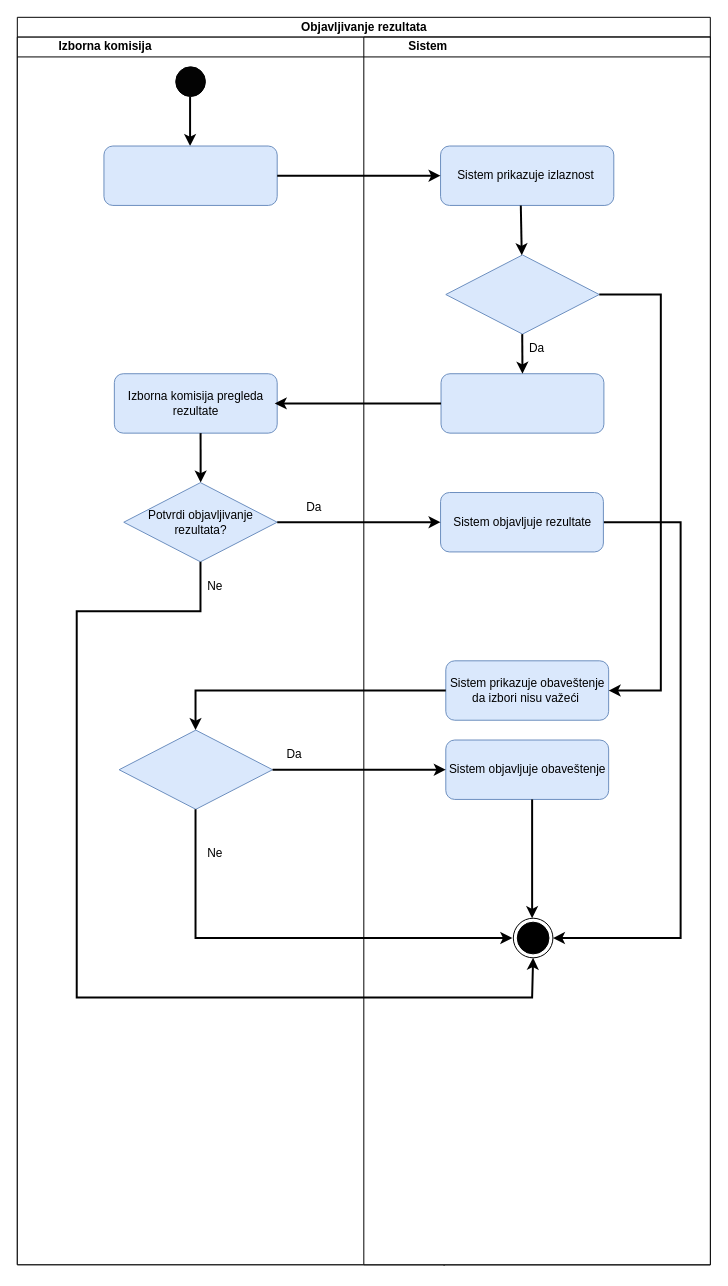
The diagram is 728 pixels wide and 1286 high, and some of its shapes have lost their labels. Each missing label, with the box of its shape:
Izborna komisija bira opciju Pregled rezultata: (103, 145, 277, 205)
Izlaznost >= 50%?: (445, 254, 599, 334)
Potvrdi objavljivanje obaveštenja?: (118, 729, 273, 809)
Sistem prikazuje rezultate po listama: (440, 373, 604, 433)
